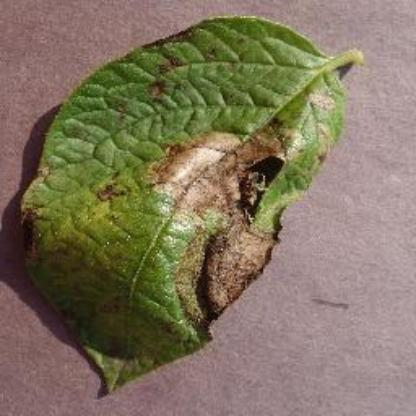Late-Blight: (12, 18, 366, 394)
